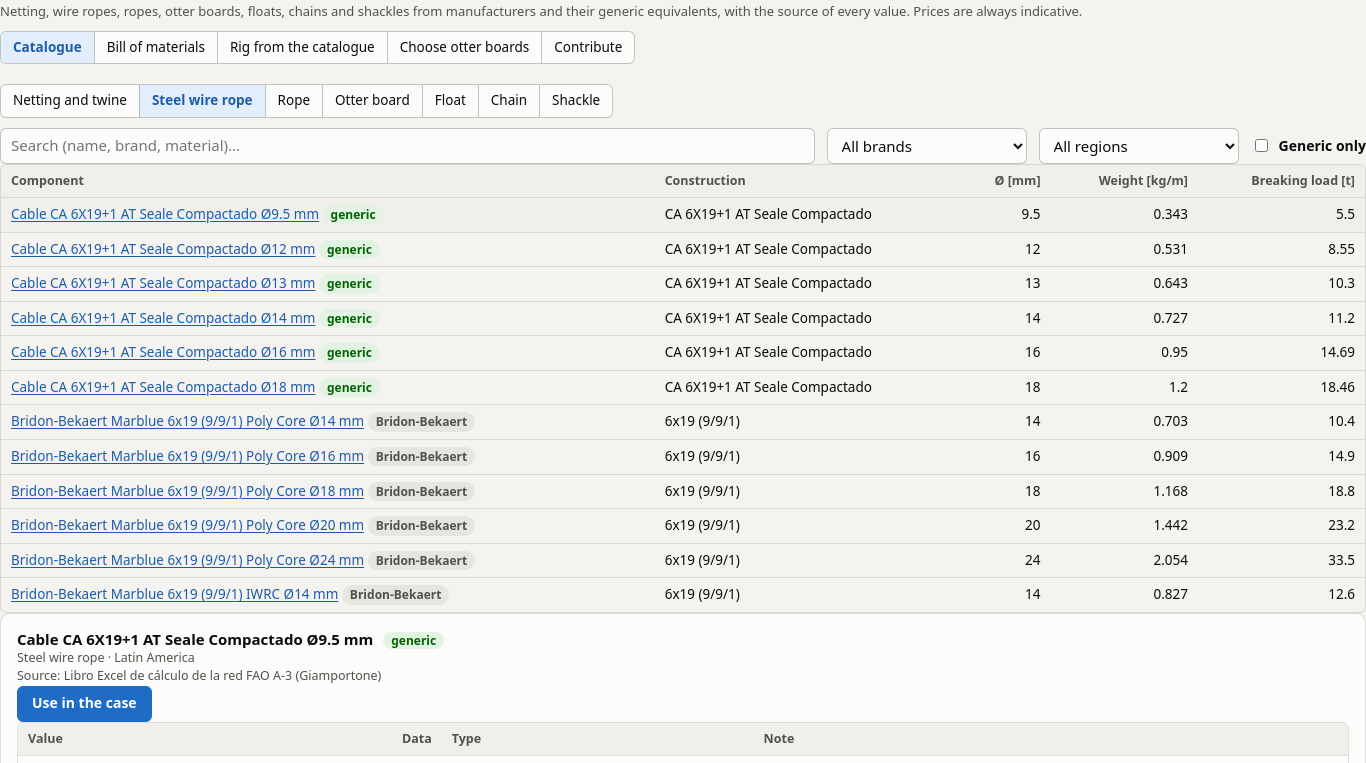
Test: Elegir portón › en inglés
This screenshot has width=1366, height=763.
Click the button "Choose otter boards".
click(464, 48)  # box [387,32,541,63]
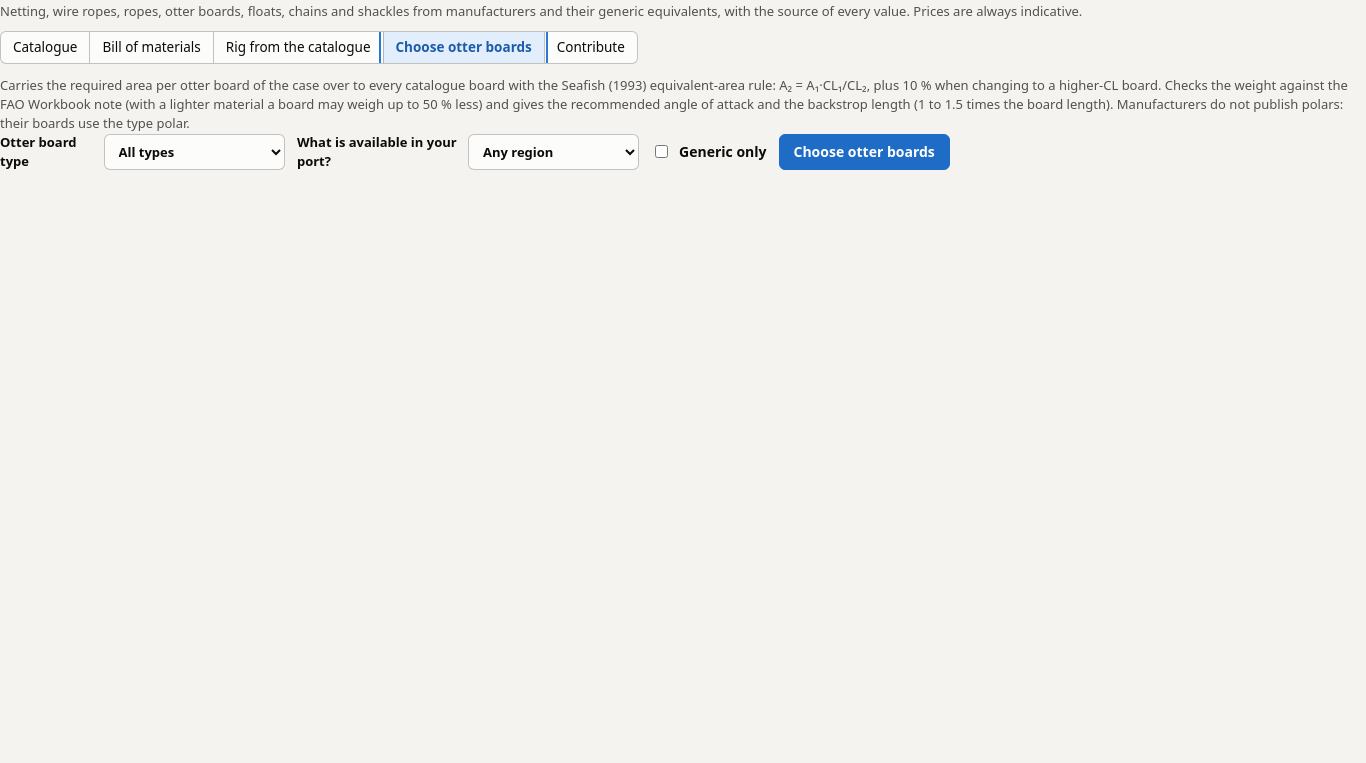
Expected: the dropdown labelled "Otter board type" is shown, [104,134,285,170]
Click the button "Choose otter boards" next to "Generic only".
click(864, 152)  # box [778,134,950,170]
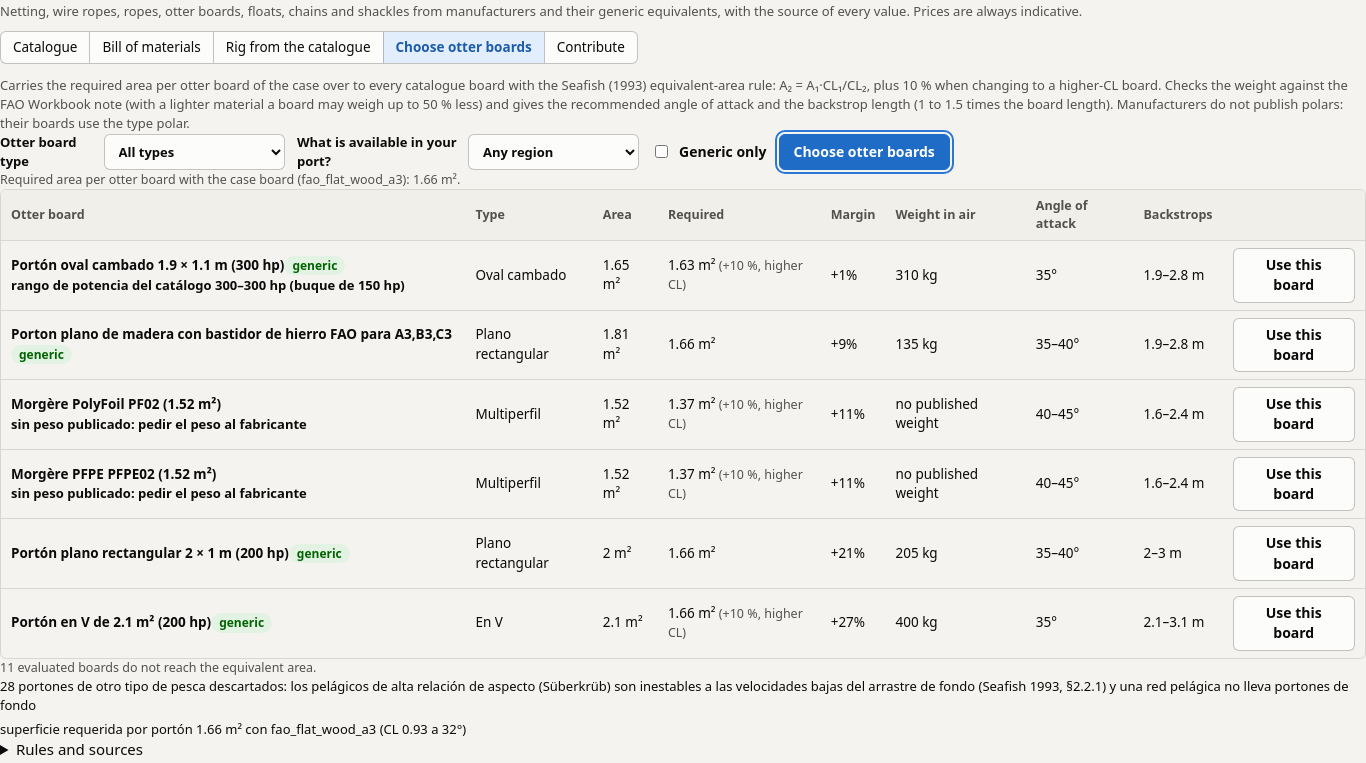
Expected: the column heading "Area" is shown, [593,190,658,241]
Expected: the column heading "Required" is shown, [658,190,821,241]
Expected: the column heading "Margin" is shown, [821,190,886,241]
